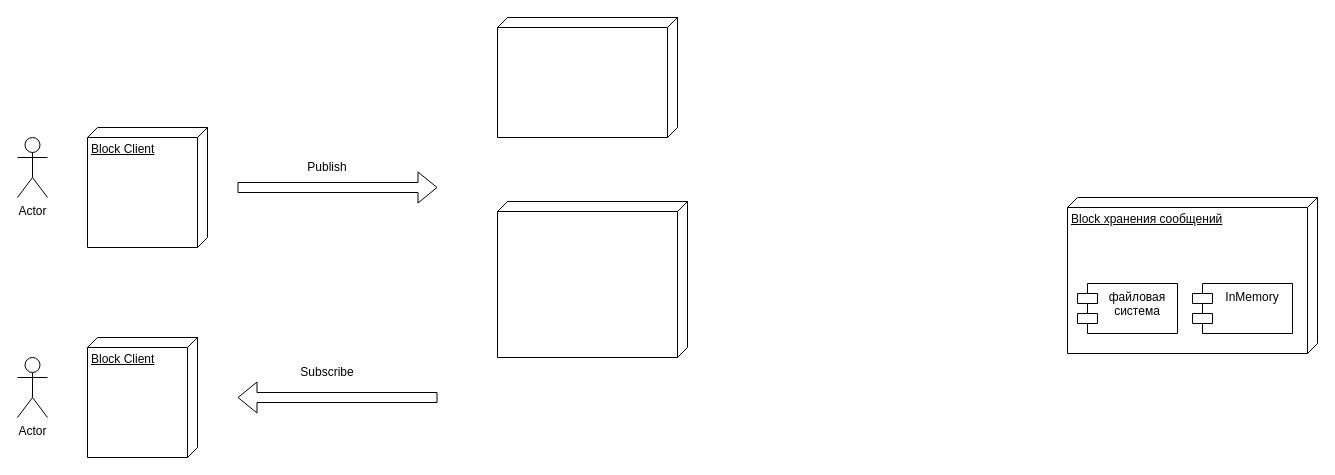
The diagram is 1335 pixels wide and 475 high, and some of its shapes have lost their labels. Here are the shapes that lost their labels. From the top down, the centre of each, then its label:
point (587, 77): Block
point (592, 279): Block ConnectionManager
